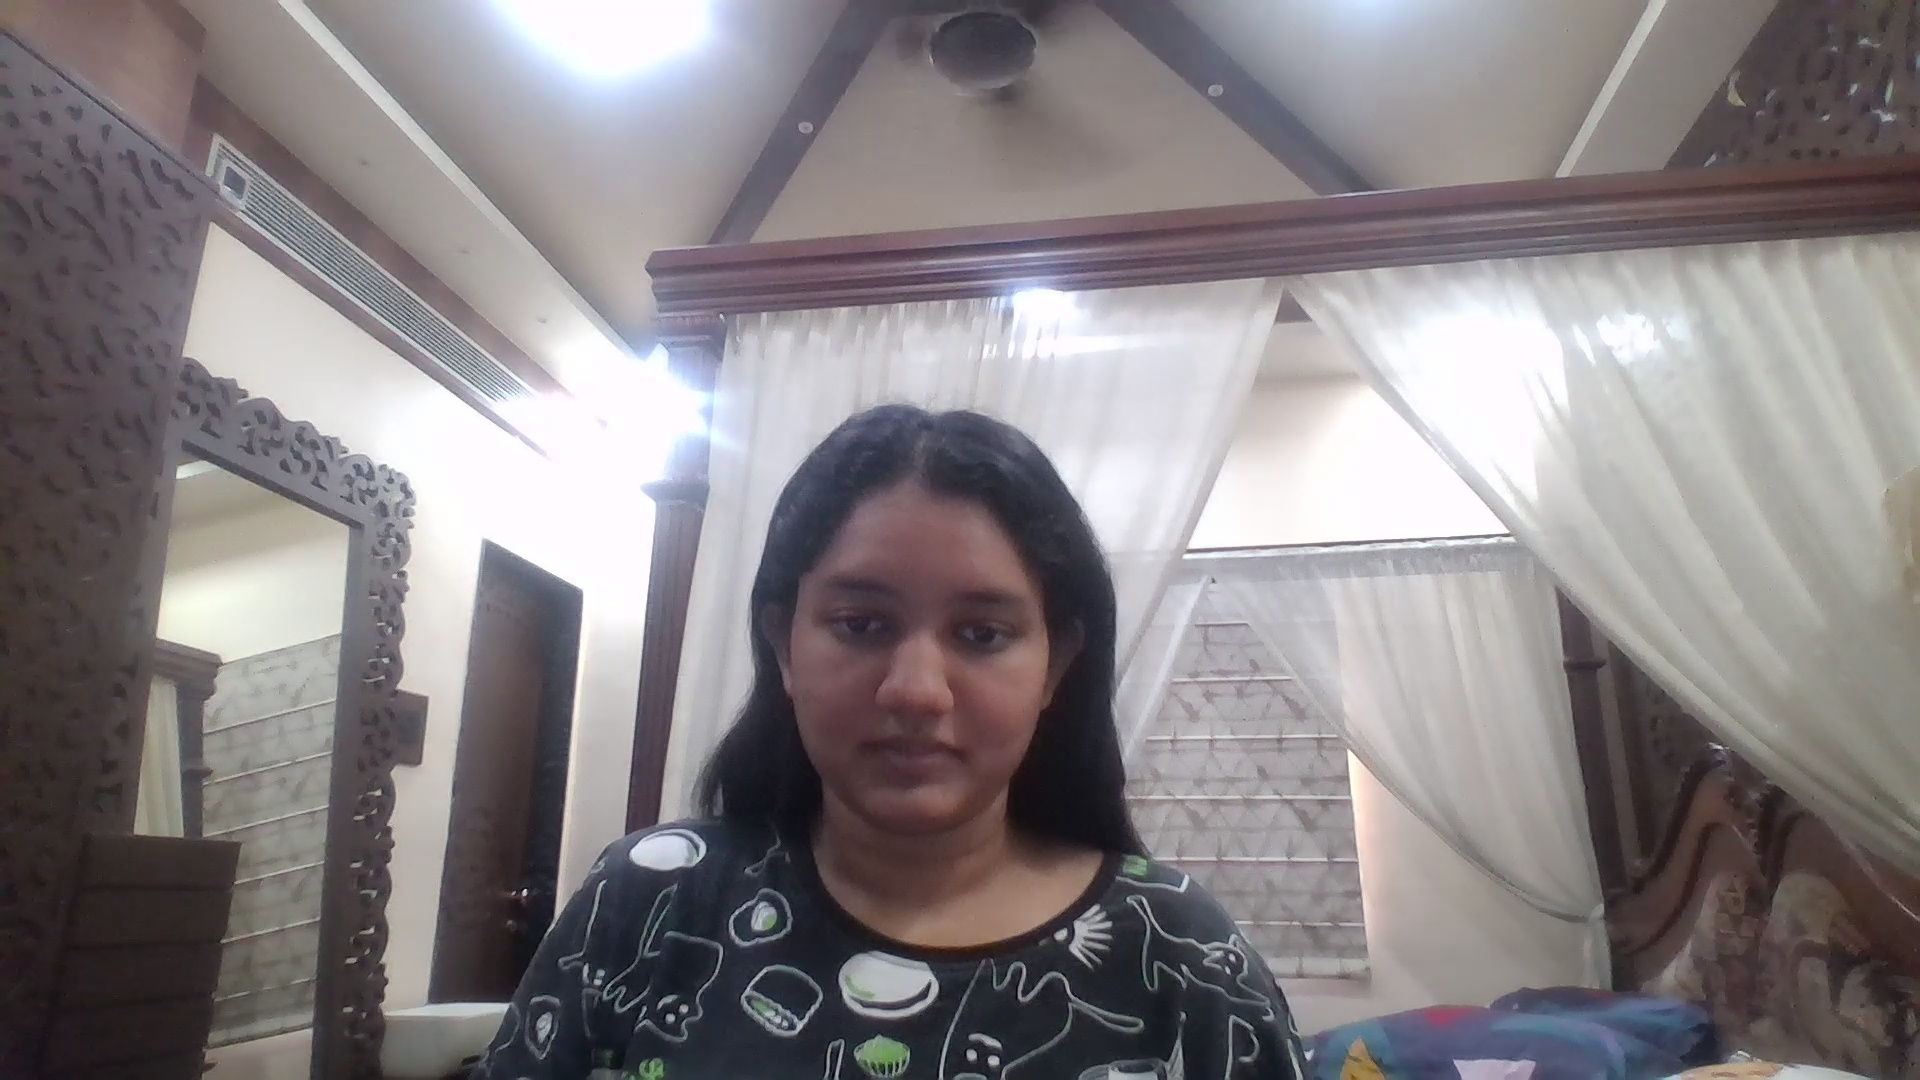No Mask: (798, 663, 1039, 825)
